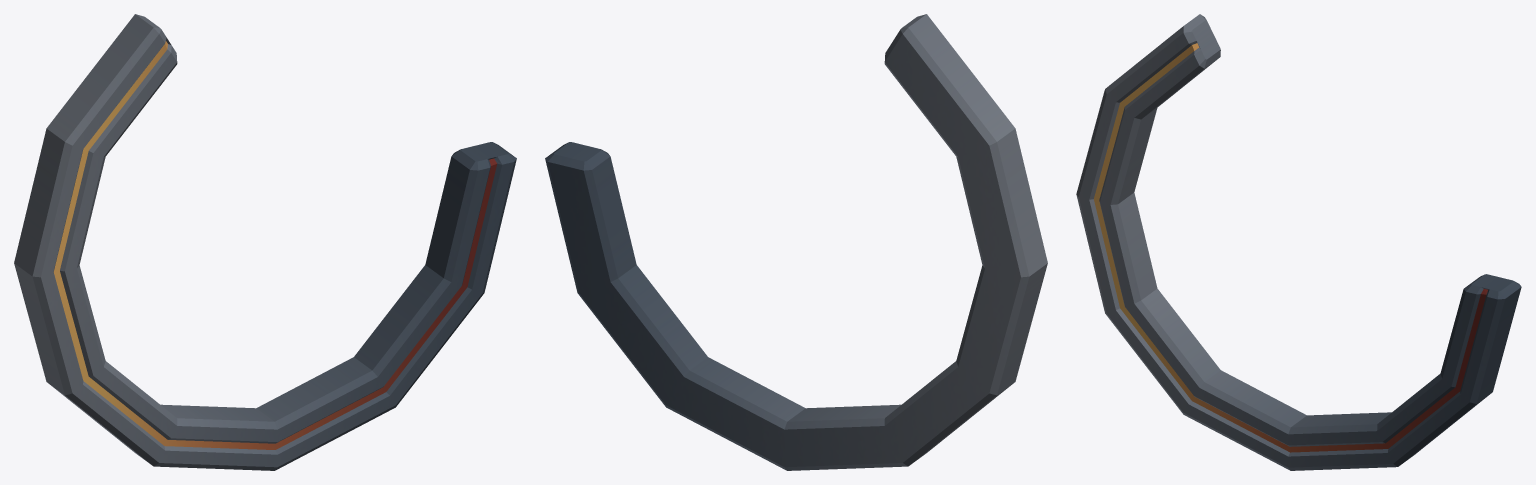
Rendered from Alien_circle.FBX.
3 renders of one model, left to right at view 1: azimuth 30°, elevation 25°; view 2: azimuth 150°, elevation 25°; view 3: azimuth 330°, elevation 25°, orthographic. The views are drawn at different scales.
Visible parts, largest first — view 1: Alien_circle; view 2: Alien_circle; view 3: Alien_circle.
Boxes of the visible parts, bbox=[...] form: Alien_circle: bbox=[14, 14, 516, 470]; Alien_circle: bbox=[545, 14, 1047, 470]; Alien_circle: bbox=[1076, 14, 1521, 470].
Size of the model in its own units: 12.4 by 11.57 by 1.07.
